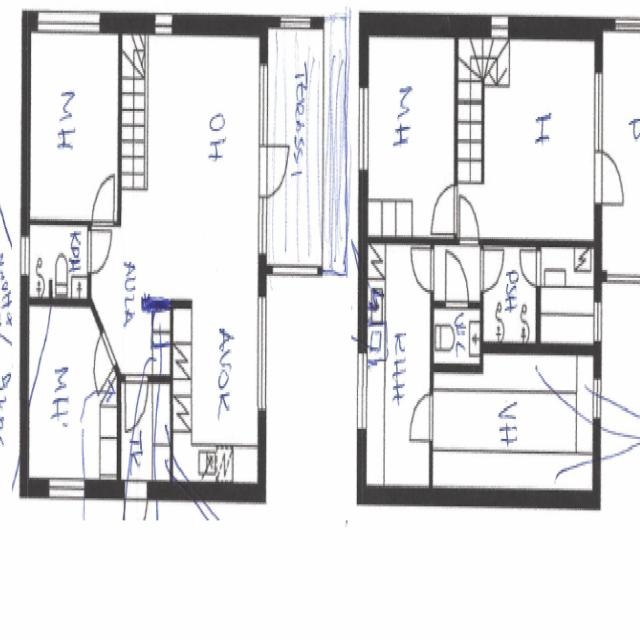door: (86, 329, 116, 392), (259, 144, 293, 197), (595, 151, 628, 204), (124, 483, 147, 550), (125, 374, 148, 431), (446, 252, 468, 309), (409, 395, 435, 441), (433, 185, 458, 231), (92, 172, 114, 224), (480, 249, 504, 293), (411, 248, 435, 291), (459, 194, 478, 243), (88, 230, 110, 272), (519, 250, 540, 286)
